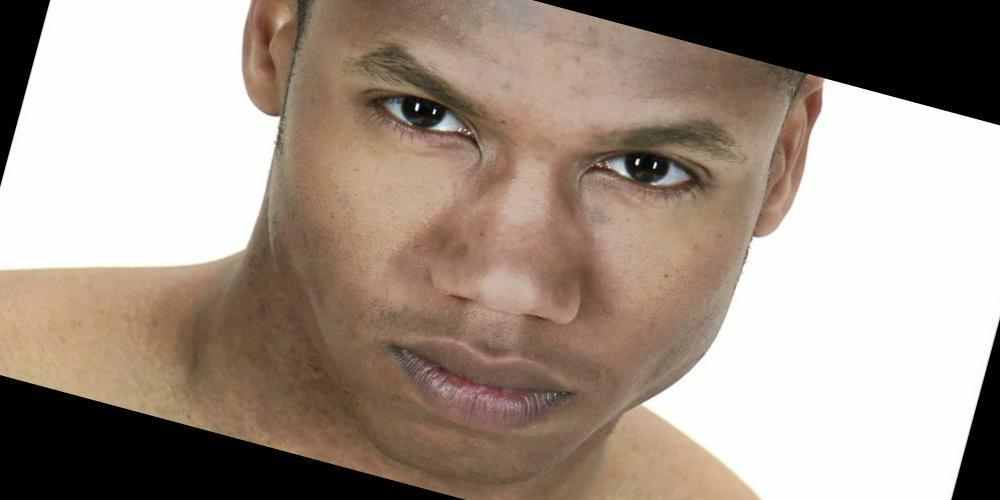Sober: (294, 6, 730, 470)
